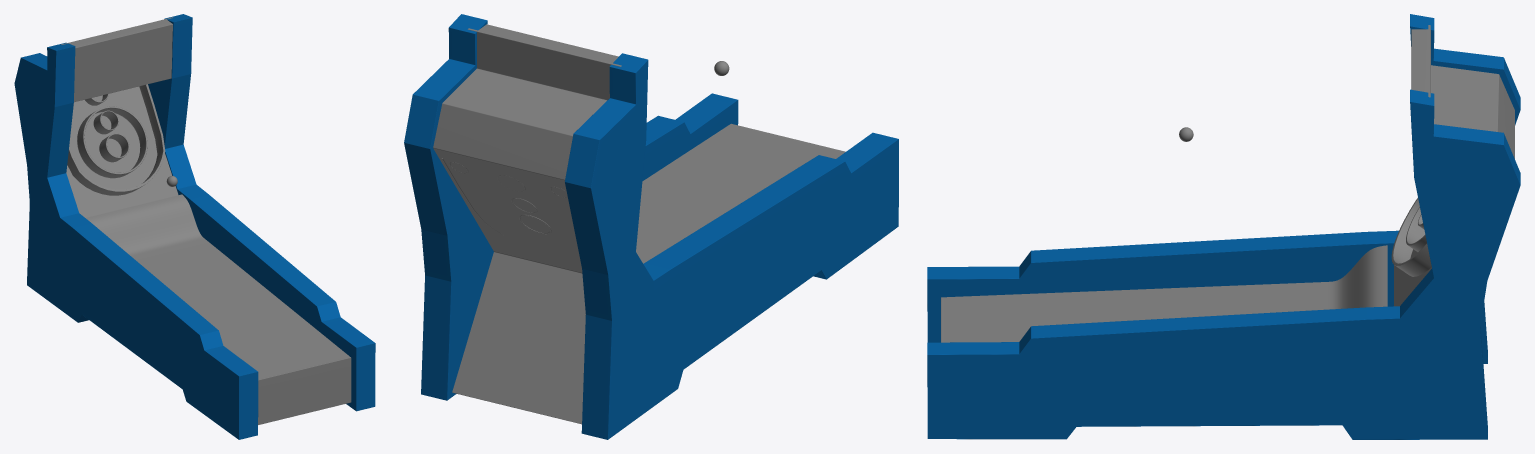
Rendered from skeeball.fbx.
The picture shows the model from 3 angles, left to right: view 1: azimuth 30°, elevation 25°; view 2: azimuth 150°, elevation 25°; view 3: azimuth 270°, elevation 25°; orthographic projection. The views are drawn at different scales.
Parts seen in each view (by area): view 1: polySurface14, polySurface9, polySurface12, pCube1, polySurface8; view 2: polySurface14, polySurface12, polySurface9, polySurface8; view 3: polySurface14, polySurface9, polySurface12, polySurface8.
Boxes of the visible parts, left/top/right/bottom form: polySurface14: left=14, top=14, right=375, bottom=439; polySurface9: left=86, top=194, right=349, bottom=378; polySurface12: left=61, top=17, right=178, bottom=217; pCube1: left=258, top=356, right=351, bottom=424; polySurface8: left=67, top=84, right=165, bottom=195; polySurface14: left=404, top=14, right=898, bottom=439; polySurface12: left=433, top=24, right=621, bottom=424; polySurface9: left=636, top=124, right=844, bottom=263; polySurface8: left=441, top=158, right=567, bottom=234; polySurface14: left=927, top=14, right=1520, bottom=439; polySurface9: left=944, top=245, right=1387, bottom=342; polySurface12: left=1394, top=25, right=1514, bottom=306; polySurface8: left=1391, top=198, right=1431, bottom=276.
Bounding box in the file's own units: 3.4 × 6.09 × 9.68.
